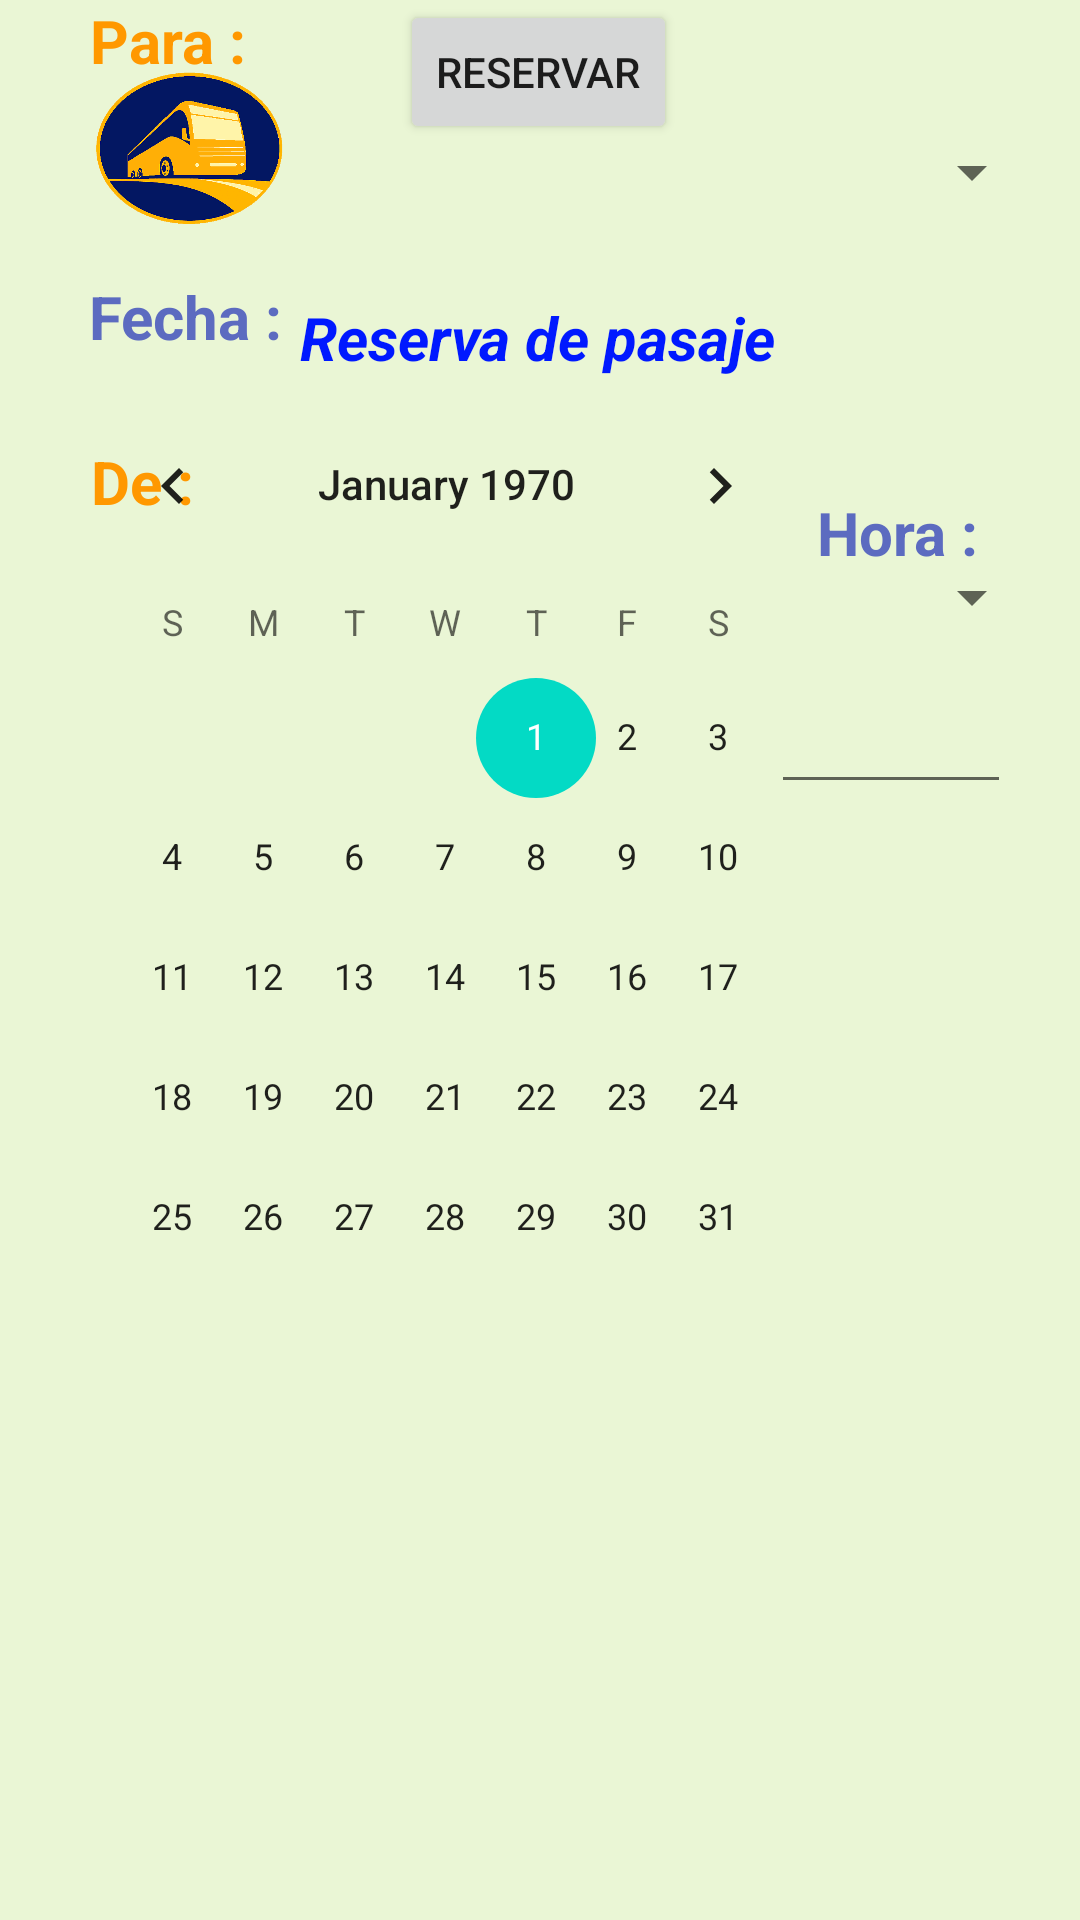

Locate icon controls on the screen. Image size 1080px×1920px, boxes as (x1, y1, x2, y2).
bus: (96, 55, 282, 224)
